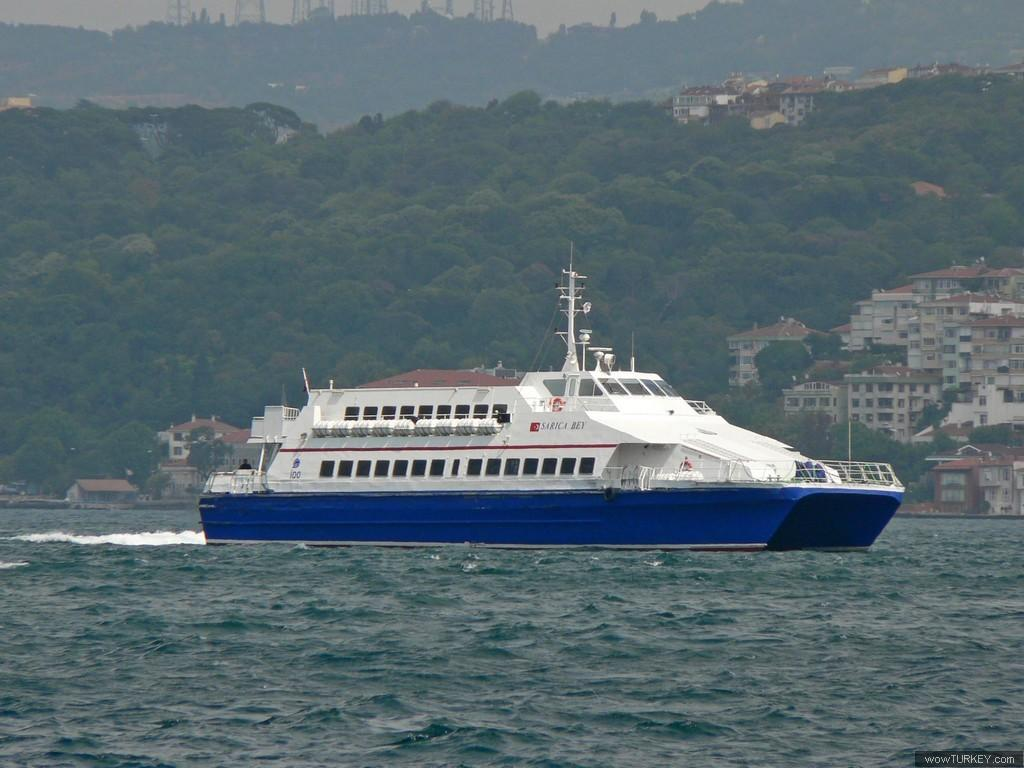PassengerShip: (190, 242, 912, 558)
